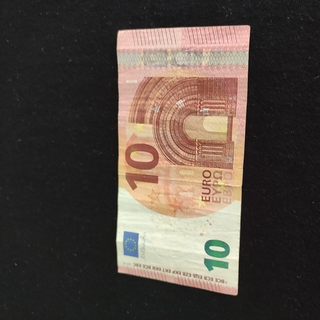10EUROFront: (115, 24, 251, 296)
